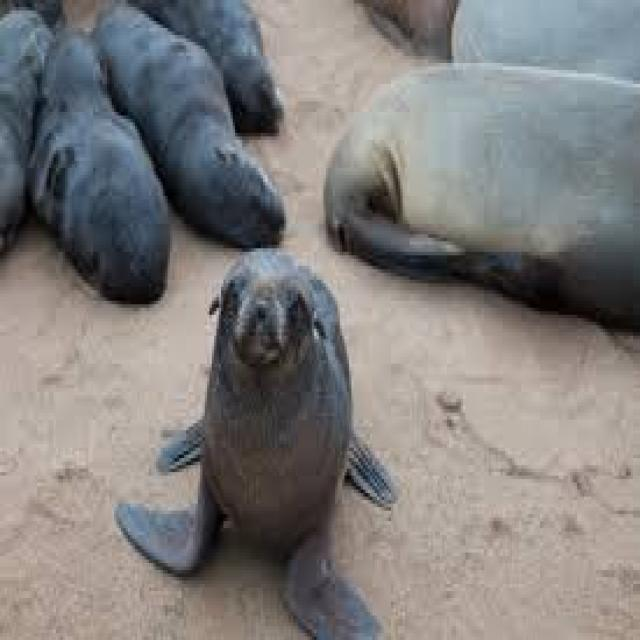seal: (116, 248, 391, 637), (323, 63, 638, 325), (93, 3, 282, 245), (30, 28, 168, 301), (128, 0, 282, 129), (451, 0, 638, 77), (0, 10, 51, 252)
